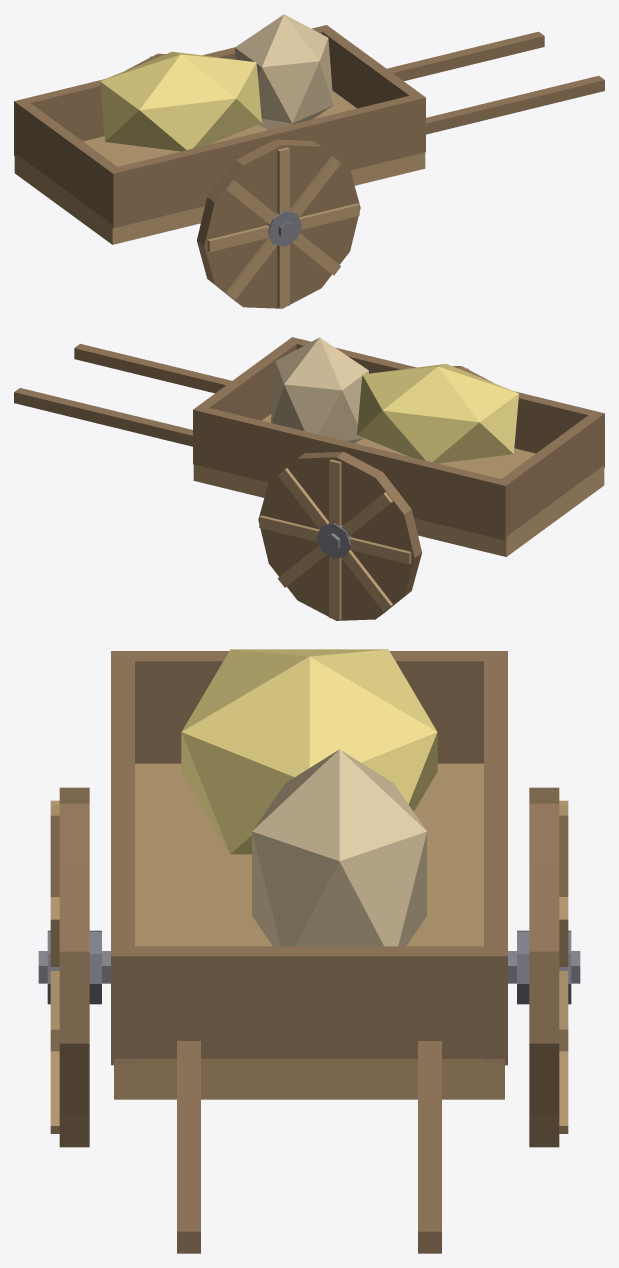
The model's file is Cart.glb.
3 renders of one model, top to bottom at view 1: azimuth 30°, elevation 25°; view 2: azimuth 150°, elevation 25°; view 3: azimuth 270°, elevation 25°, orthographic. The views are drawn at different scales.
Parts seen in each view (by area): view 1: Cart_Side, Cart_Wheel, Cart_Hay, Cart_Sack, Cart_Bed, Cart_End, Cart_End.001, Cart_Side.001, Cart_Shaft, Cart_Shaft.001, Cart_Spoke.003, Cart_Spoke (+3 smaller); view 2: Cart_Side.001, Cart_Wheel.001, Cart_Hay, Cart_Sack, Cart_Bed, Cart_End, Cart_Side, Cart_Shaft.001, Cart_End.001, Cart_Shaft, Cart_Spoke.007, Cart_Spoke.004 (+3 smaller); view 3: Cart_Bed, Cart_End.001, Cart_Hay, Cart_Sack, Cart_End, Cart_Wheel, Cart_Wheel.001, Cart_Side, Cart_Side.001, Cart_Shaft, Cart_Shaft.001, Cart_Hub (+8 smaller).
Boxes of the visible parts, box(x1,y1,x2,y2) form: Cart_Side: box(107, 93, 425, 228); Cart_Wheel: box(197, 139, 360, 308); Cart_Hay: box(100, 51, 261, 151); Cart_Sack: box(235, 14, 333, 129); Cart_Bed: box(14, 90, 425, 244); Cart_End: box(15, 99, 122, 220); Cart_End.001: box(318, 25, 424, 108); Cart_Side.001: box(14, 25, 332, 158); Cart_Shaft: box(426, 75, 604, 134); Cart_Shaft.001: box(387, 31, 544, 80); Cart_Spoke.003: box(226, 156, 340, 299); Cart_Spoke: box(207, 203, 359, 251); Cart_Side.001: box(193, 407, 511, 540); Cart_Wheel.001: box(258, 451, 422, 620); Cart_Hay: box(357, 364, 518, 463); Cart_Sack: box(271, 337, 368, 443); Cart_Bed: box(193, 413, 604, 556); Cart_End: box(496, 412, 604, 532); Cart_Side: box(287, 337, 604, 467); Cart_Shaft.001: box(14, 388, 192, 446); Cart_End.001: box(194, 338, 300, 420); Cart_Shaft: box(74, 343, 231, 393); Cart_Spoke.007: box(277, 468, 392, 611); Cart_Spoke.004: box(259, 515, 411, 564); Cart_Bed: box(114, 763, 504, 1099); Cart_End.001: box(114, 946, 504, 1058); Cart_Hay: box(181, 649, 437, 854); Cart_Sack: box(252, 749, 426, 946); Cart_End: box(114, 651, 504, 763); Cart_Wheel: box(59, 787, 89, 1147); Cart_Wheel.001: box(529, 787, 559, 1147); Cart_Side: box(111, 651, 134, 1065); Cart_Side.001: box(484, 651, 507, 1065); Cart_Shaft: box(177, 1041, 200, 1253); Cart_Shaft.001: box(418, 1041, 441, 1253); Cart_Hub: box(47, 930, 101, 1004).
Size of the model in its own units: 3.9 by 1.66 by 1.8.
